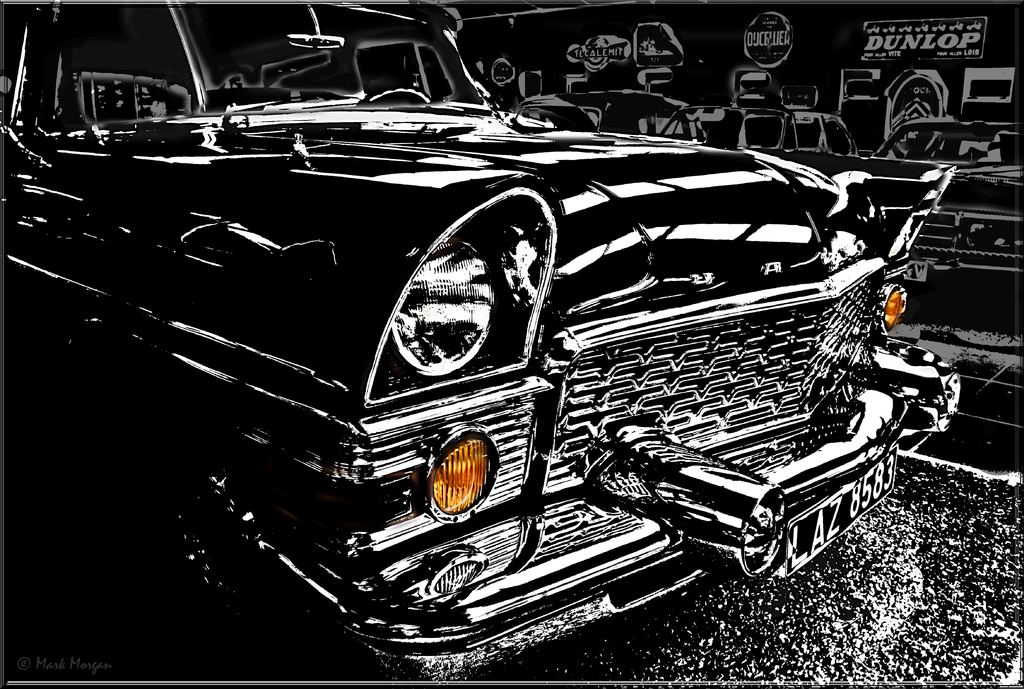Car: (0, 0, 960, 688)
